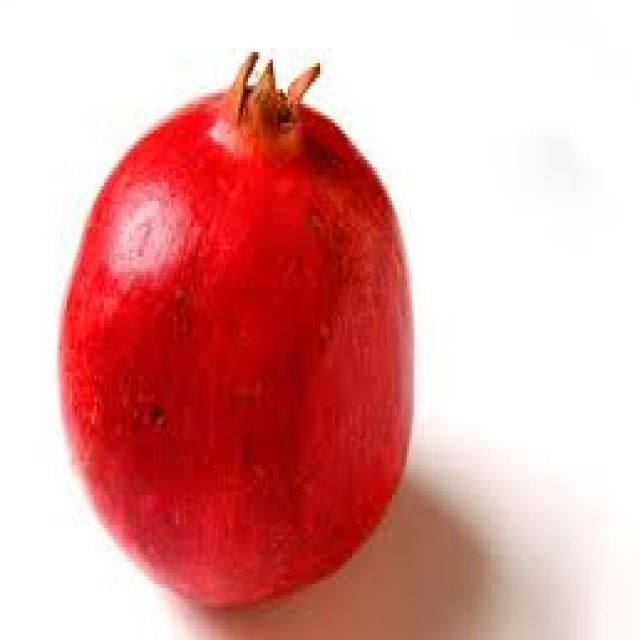pomegranate: (42, 34, 417, 636)
